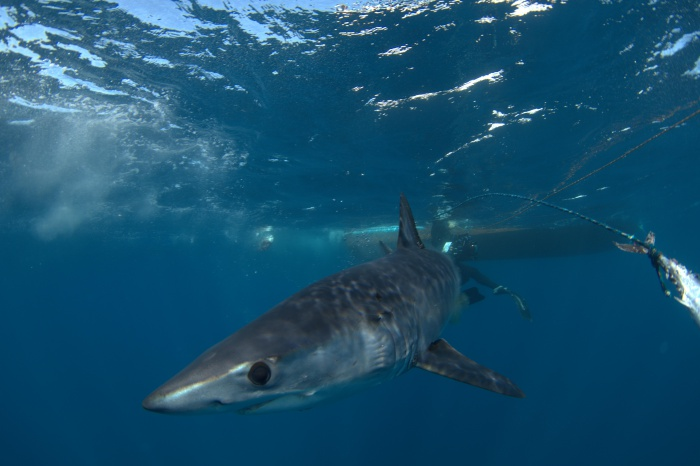Mako: (123, 186, 532, 446)
